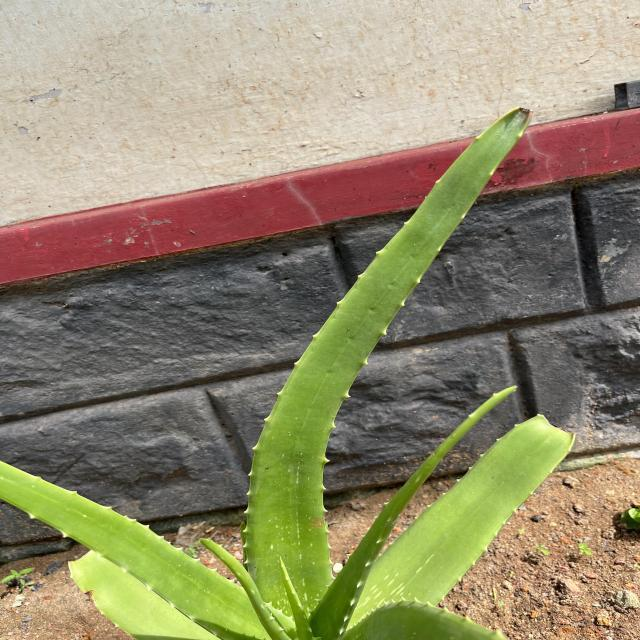Aloe vera: (240, 100, 534, 616)
